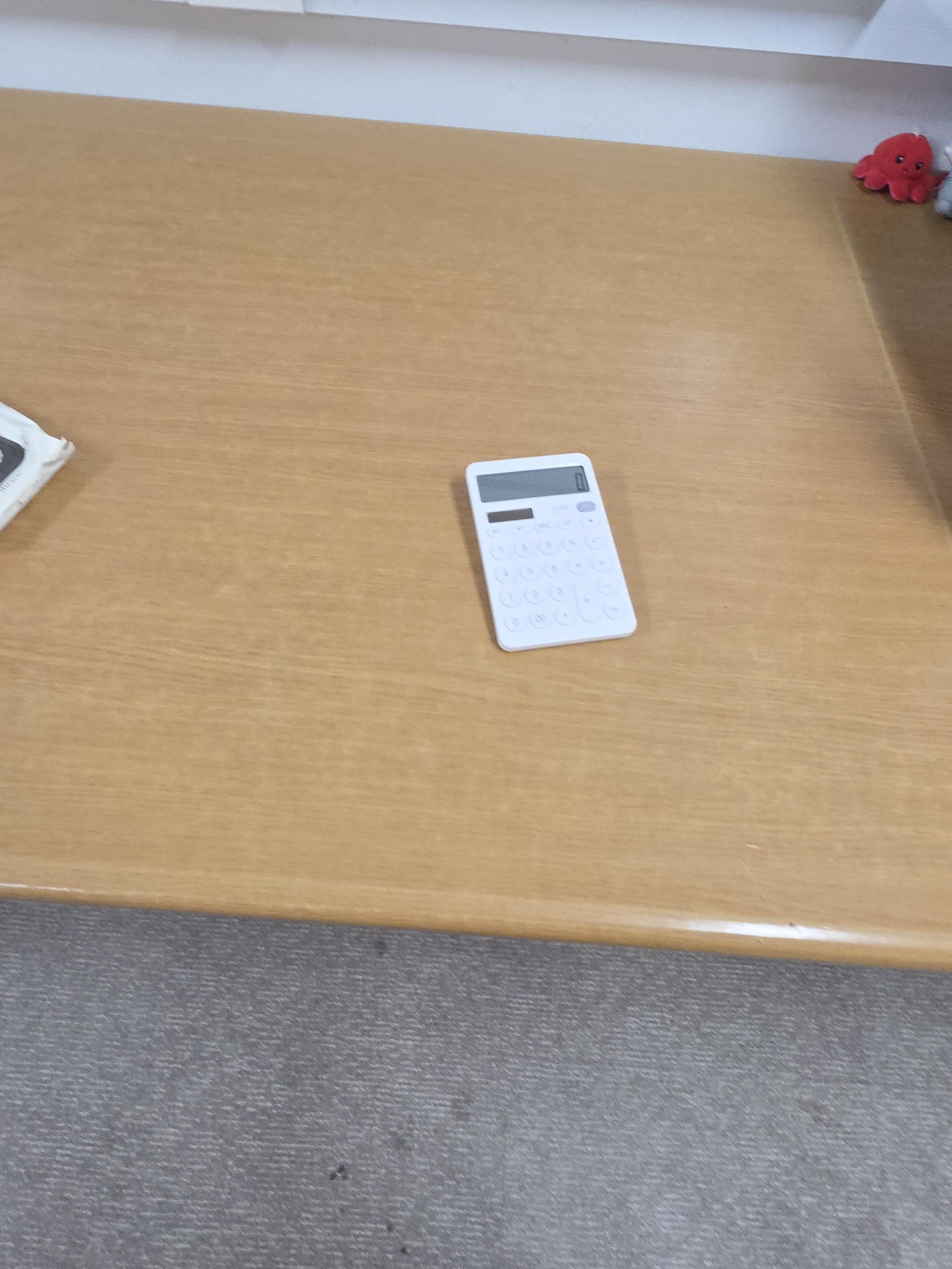calculator: (465, 452, 638, 652)
tissue: (0, 402, 76, 532)
